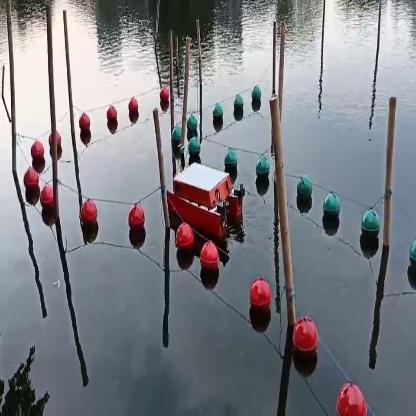green_buoy: (361, 208, 379, 252), (323, 192, 338, 230), (296, 173, 312, 207), (248, 84, 262, 108), (172, 124, 184, 152), (190, 137, 202, 161), (187, 110, 197, 136), (234, 94, 244, 118), (228, 150, 237, 176), (212, 104, 223, 125), (257, 163, 269, 180), (410, 243, 415, 271)
red_buoy: (291, 316, 318, 360), (336, 381, 366, 415), (250, 276, 272, 320), (124, 202, 146, 238), (200, 239, 218, 278), (175, 221, 193, 256), (79, 200, 97, 235), (72, 111, 90, 139), (23, 168, 37, 195), (40, 183, 53, 210), (32, 143, 46, 166), (102, 106, 116, 128), (129, 101, 140, 122), (159, 84, 168, 106)
